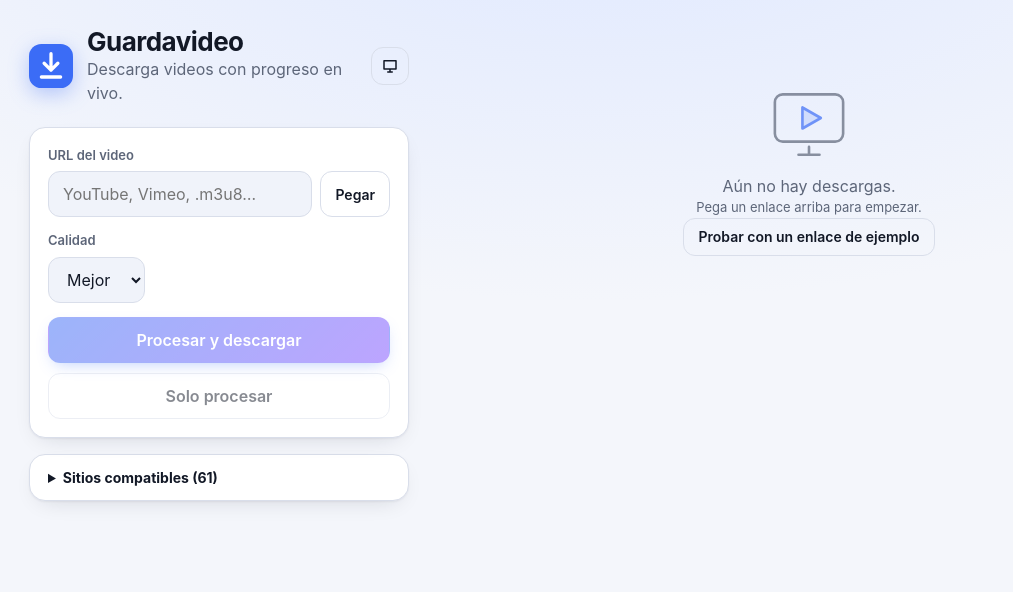
Scenario: App (integración con fetch simulado) › muestra el mensaje del servidor cuando falla la creación
This screenshot has width=1013, height=592.
Type "http://127.0.0.1/x.m3u8" into the field labelled "URL del video". click: coordinates (180, 194)
box: [48,171,312,217]
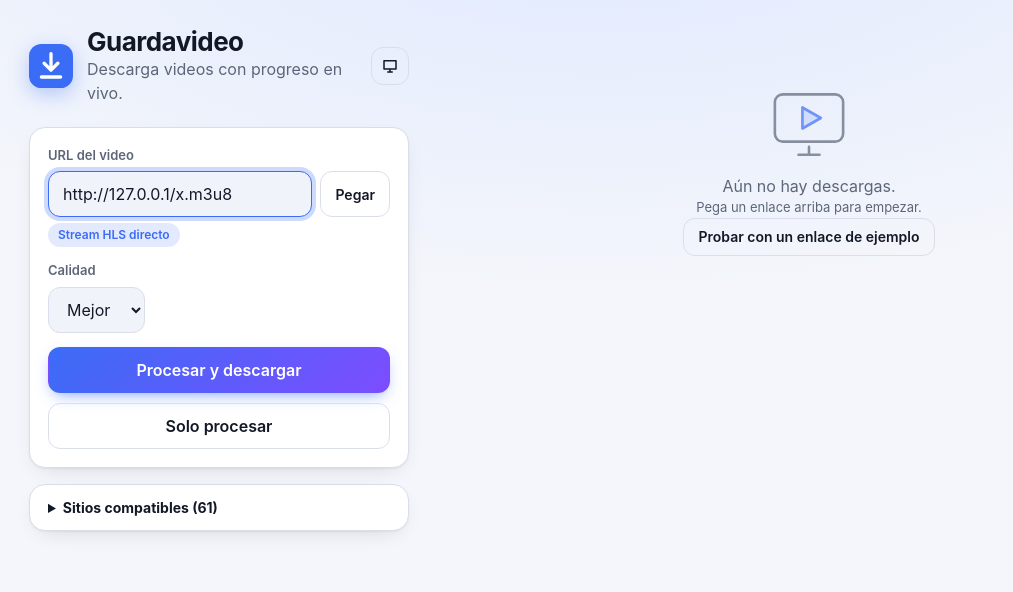
Click the button "Procesar y descargar". click: coordinates (219, 370)
box: [48,347,390,393]
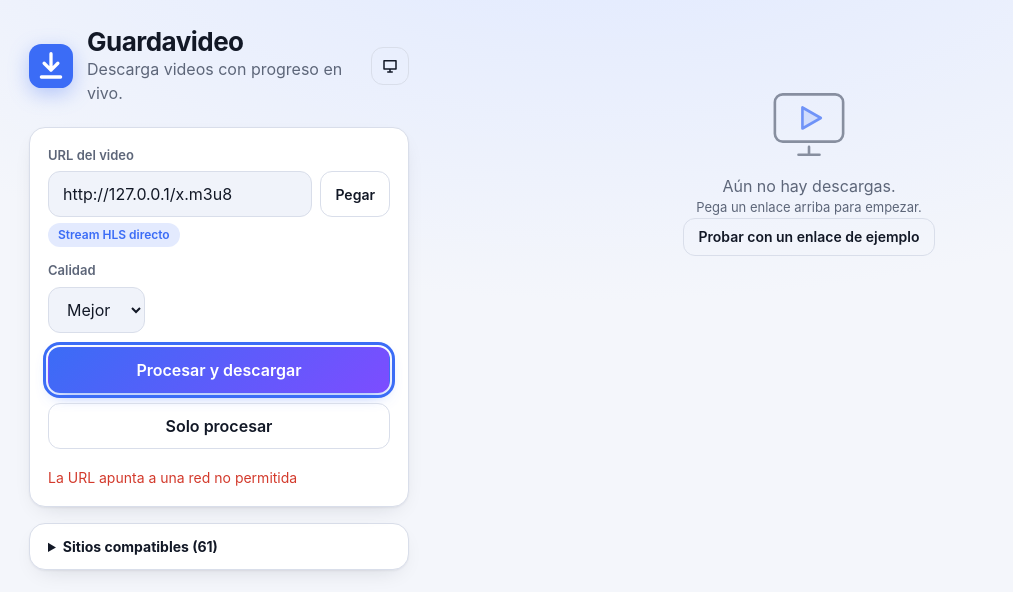
Expected: the message shows "red no permitida", [48,469,297,486]
